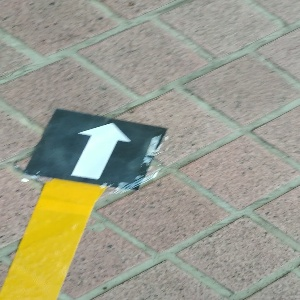straight: (25, 108, 167, 190)
